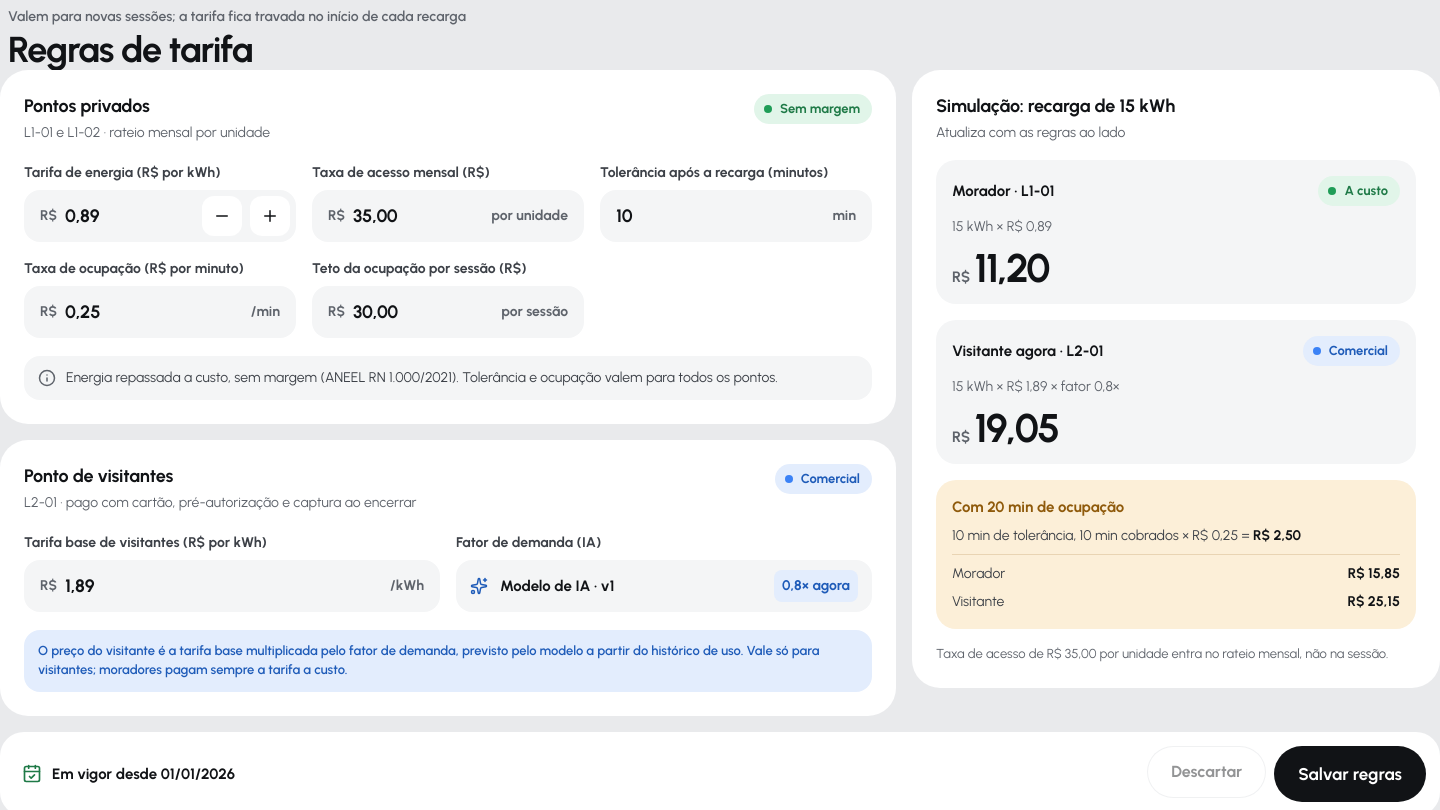
Test: RulesRoute › discards unsaved changes
The width and height of the screenshot is (1440, 810).
Replace the text in the field labelled "Taxa de acesso mensal (R$)" with "40" at (418, 216), box [353,190,483,242]
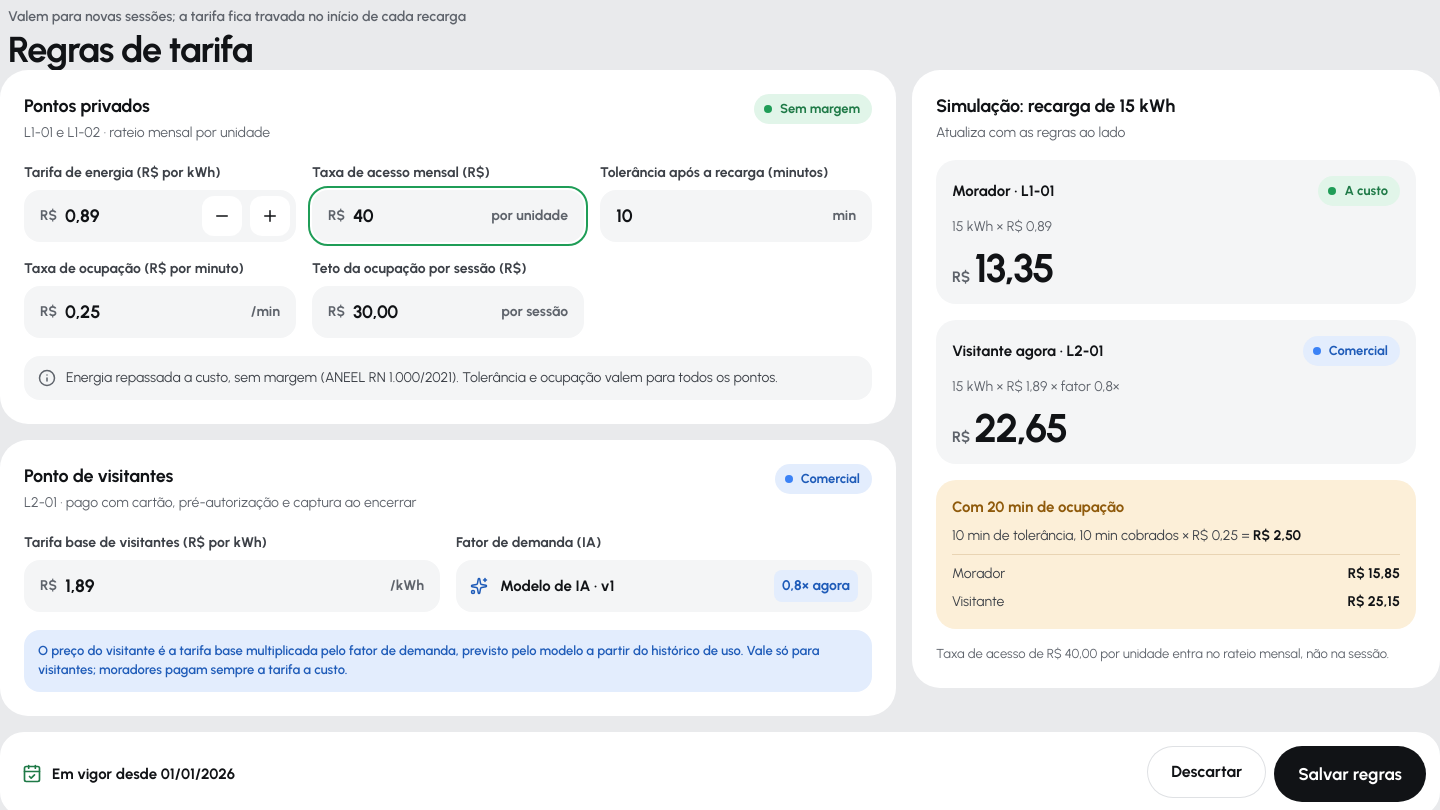
Click the button "Descartar" at (1207, 772), box [1147,746,1266,798]
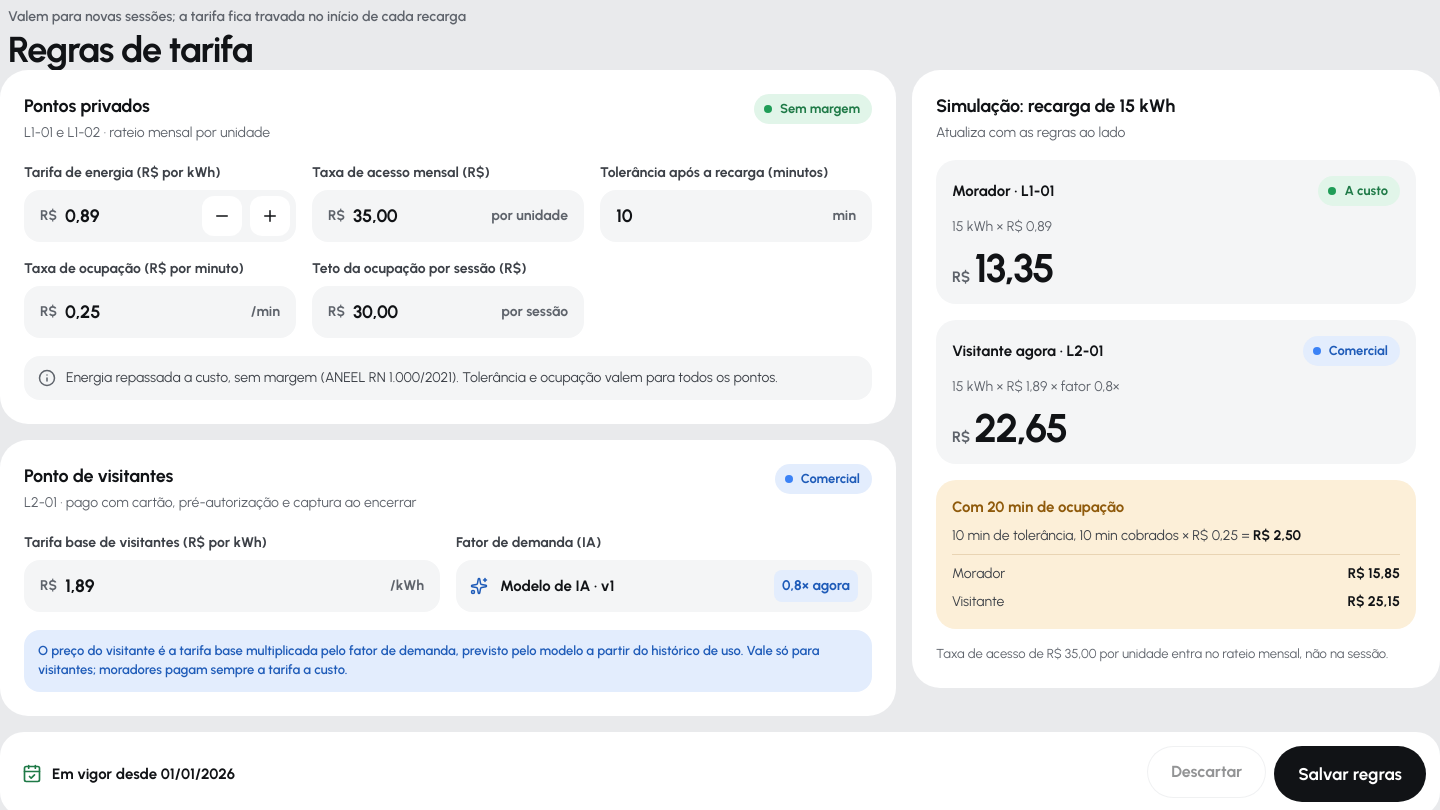
Expected: the field labelled "Taxa de acesso mensal (R$)" holds "35,00", [353,190,483,242]
